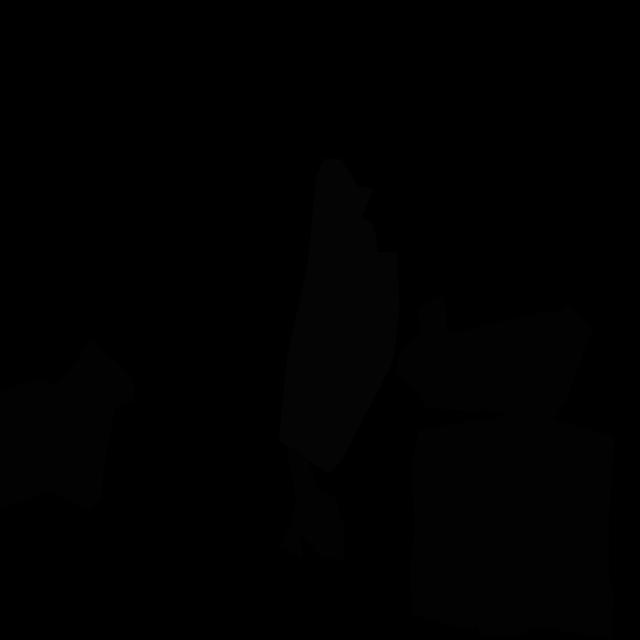cardboard: (410, 416, 615, 639), (397, 293, 592, 420), (0, 338, 135, 511), (278, 444, 345, 560)
soft_plastic: (279, 159, 400, 474)
